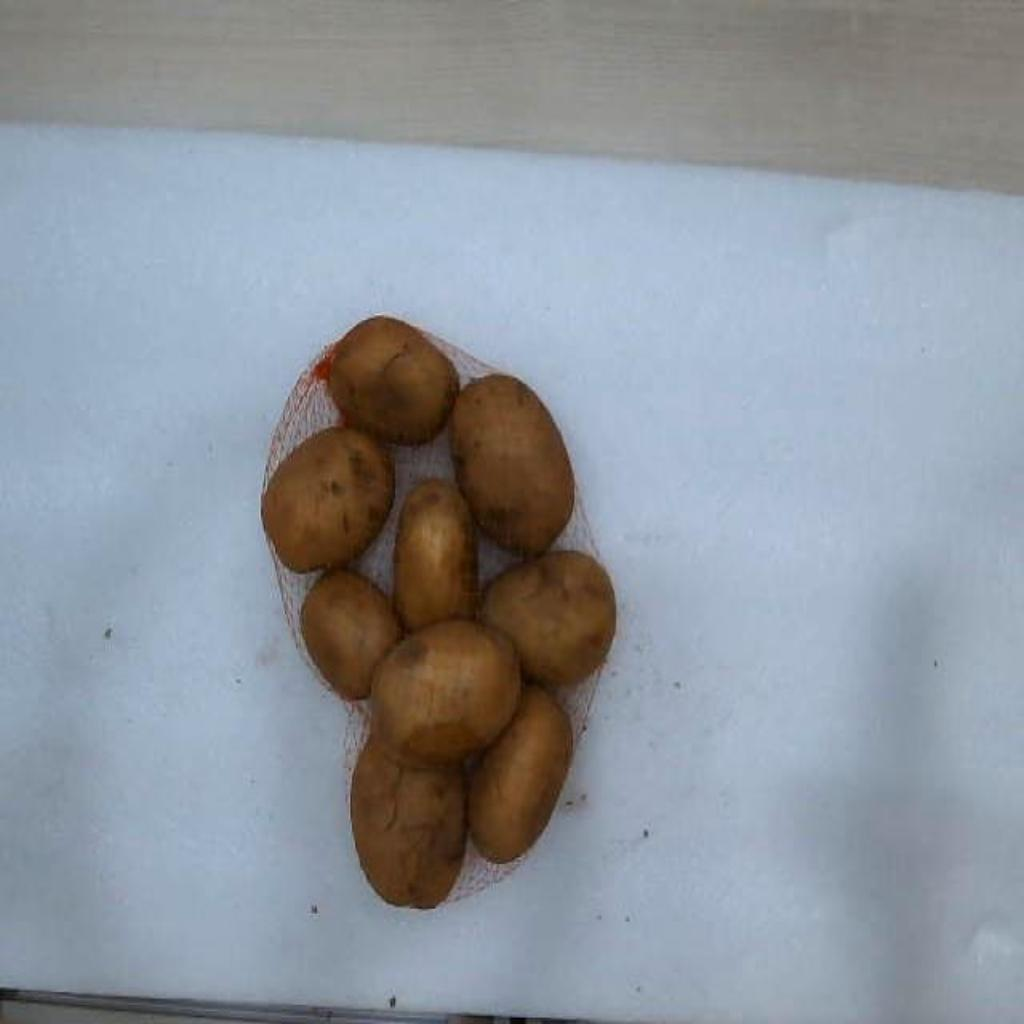potato: (450, 373, 574, 556), (374, 619, 522, 764), (350, 736, 462, 908), (262, 427, 394, 572), (468, 685, 572, 861), (480, 552, 614, 684), (328, 317, 460, 444), (394, 477, 476, 631), (302, 573, 400, 697)
